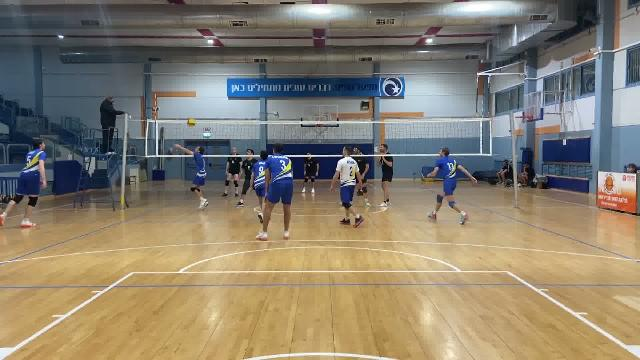ball: (185, 117, 196, 129)
